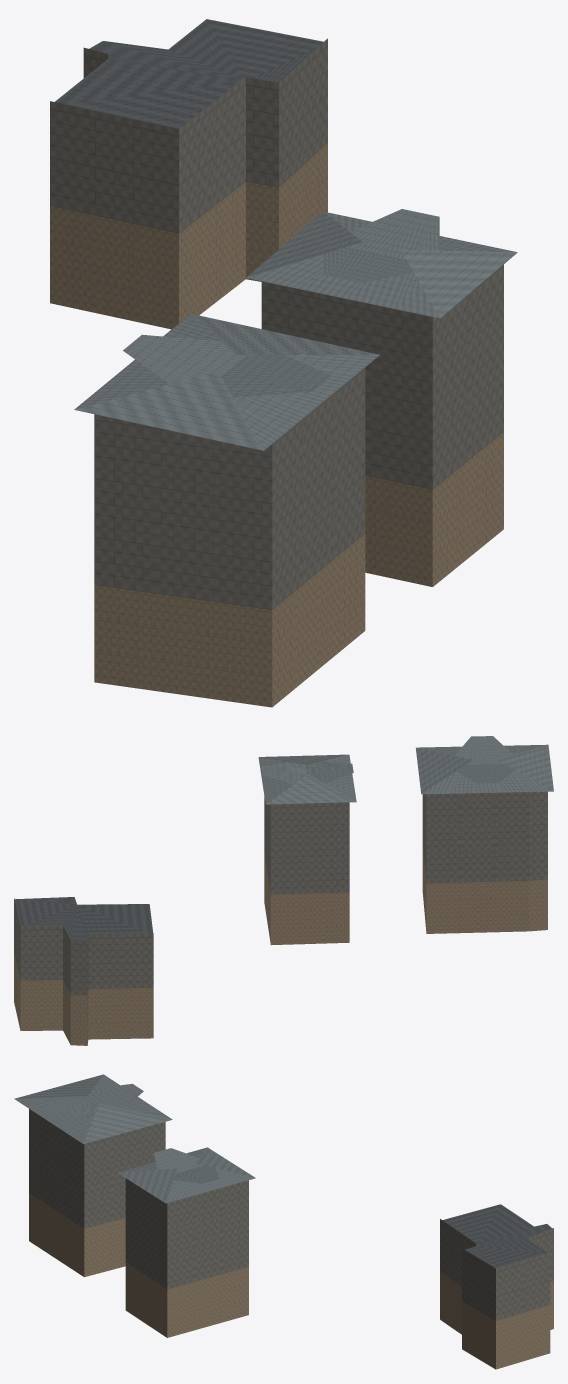
Rendered from bld_c31_-24_539.gltf.
The picture shows the model from 3 angles, top to bottom: view 1: azimuth 30°, elevation 25°; view 2: azimuth 150°, elevation 25°; view 3: azimuth 270°, elevation 25°; orthographic projection. The views are drawn at different scales.
Visible parts, largest first — view 1: bld_c31_-24_539; view 2: bld_c31_-24_539; view 3: bld_c31_-24_539.
Part boxes in pixels (<box>): bld_c31_-24_539: <box>50,19,517,707</box>; bld_c31_-24_539: <box>14,736,553,1045</box>; bld_c31_-24_539: <box>14,1074,553,1369</box>.
Bounding box in the file's own units: 35.41 × 16 × 51.24.
Materials: 5 (5 with a texture image).
